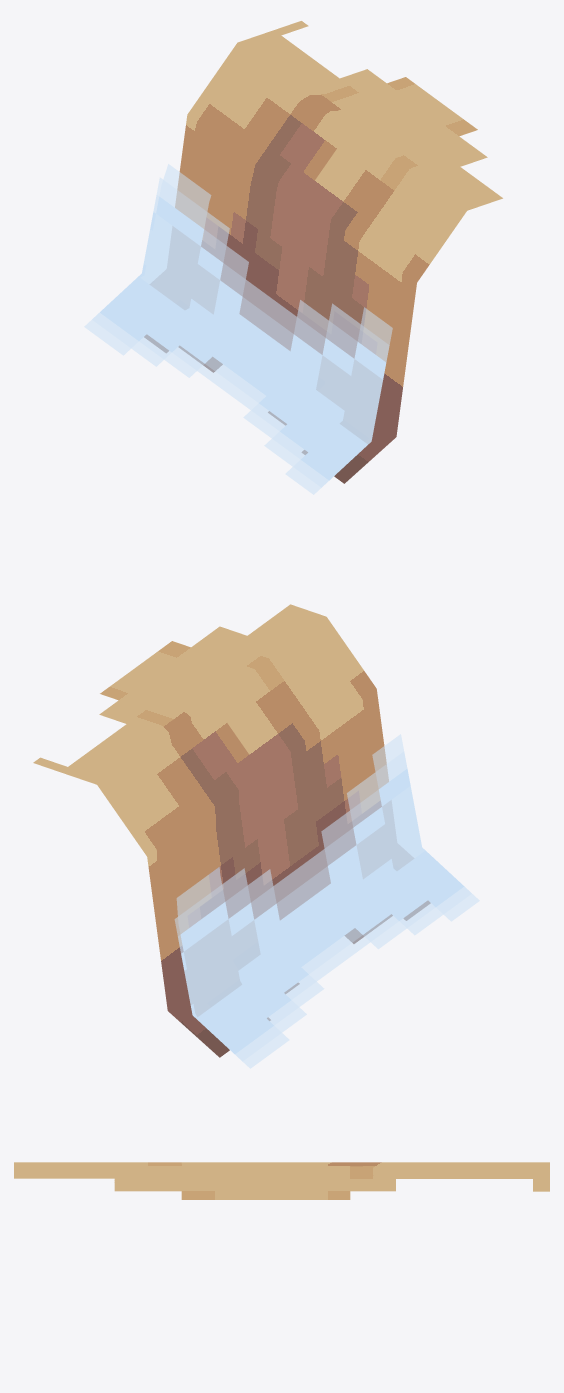
3 views of the same model, one above another, from view 1: azimuth 30°, elevation 25°; view 2: azimuth 150°, elevation 25°; view 3: azimuth 270°, elevation 25° (orthographic). The views are drawn at different scales.
Bounding box in the file's own units: 0.7703 × 0.7266 × 1.
2 materials, 2 textured.
